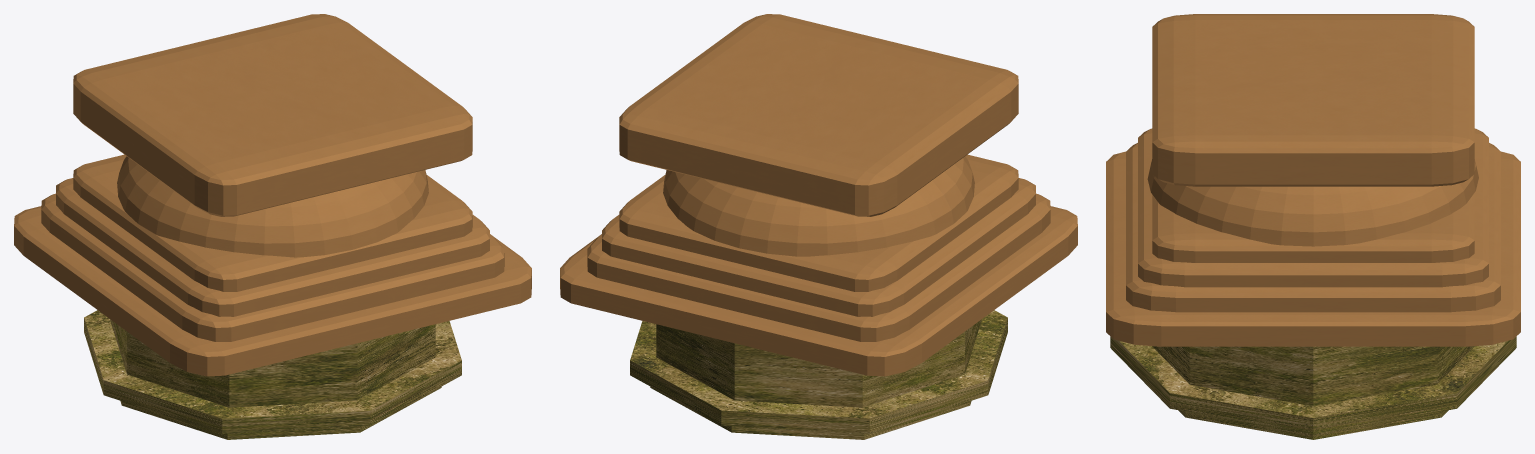
The model's file is RondPilier.glb.
3 renders of one model, left to right at view 1: azimuth 30°, elevation 25°; view 2: azimuth 150°, elevation 25°; view 3: azimuth 270°, elevation 25°, orthographic. The views are drawn at different scales.
Visible parts, largest first — view 1: Cylinder.001; view 2: Cylinder.001; view 3: Cylinder.001.
Part boxes in pixels (<box>): Cylinder.001: <box>14,14,531,439</box>; Cylinder.001: <box>560,14,1077,439</box>; Cylinder.001: <box>1106,14,1520,439</box>.
Bounding box in the file's own units: 18.52 × 13.83 × 18.18.
3 materials, 3 textured.
